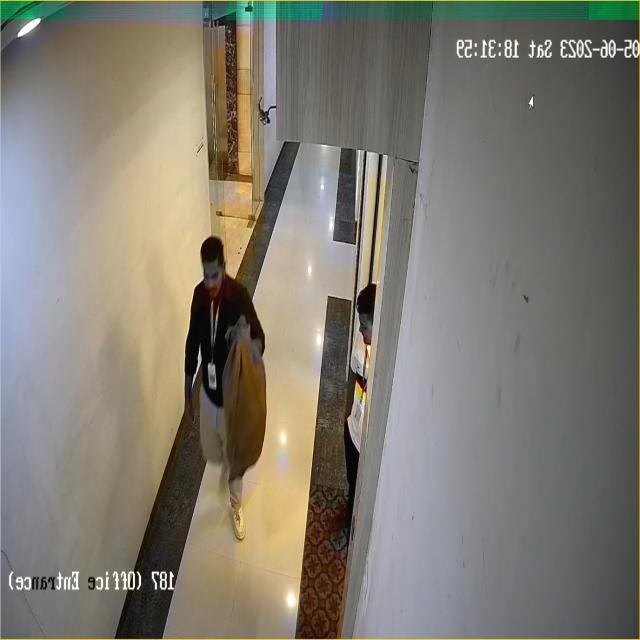gunny_bag: (223, 320, 265, 485)
